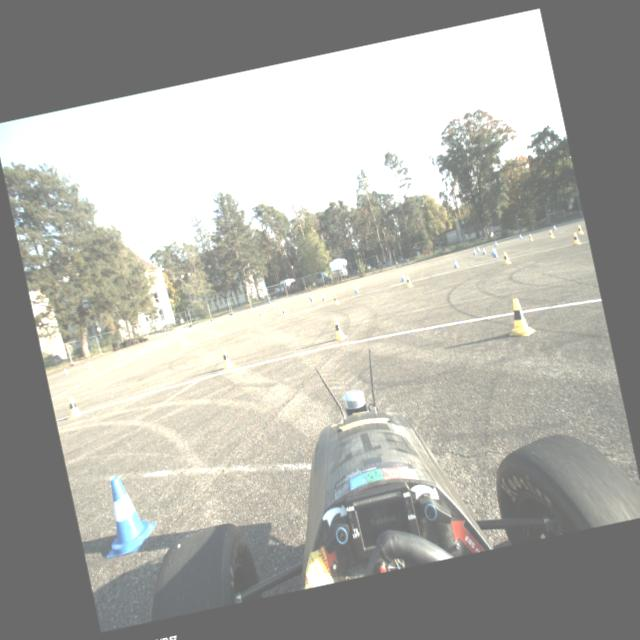blue_cone: (88, 468, 164, 560), (398, 272, 406, 281), (452, 258, 458, 268), (352, 284, 358, 293), (491, 248, 497, 257), (490, 246, 496, 255), (320, 292, 326, 300), (62, 368, 68, 374), (481, 247, 486, 254), (472, 248, 476, 254), (119, 349, 123, 355), (156, 337, 160, 343), (310, 296, 314, 302), (494, 240, 498, 246), (552, 224, 556, 230), (270, 301, 274, 306), (309, 294, 312, 300), (518, 234, 522, 238), (476, 246, 479, 251), (255, 306, 258, 310), (287, 296, 289, 302), (302, 294, 305, 298), (307, 292, 309, 298), (186, 328, 188, 332), (208, 321, 210, 325), (233, 313, 235, 317)
yellow_cone: (502, 296, 534, 338), (62, 393, 84, 420), (331, 316, 346, 341), (220, 346, 234, 368), (571, 232, 581, 244), (502, 251, 511, 264), (405, 274, 413, 286), (332, 294, 340, 304), (577, 224, 584, 234), (548, 229, 554, 238), (527, 233, 533, 241), (86, 361, 92, 368), (259, 310, 263, 318), (282, 308, 286, 316), (181, 330, 185, 336), (262, 309, 266, 315), (272, 304, 276, 310), (148, 341, 152, 346), (206, 322, 209, 327), (276, 302, 279, 307), (264, 304, 266, 310), (228, 315, 230, 320), (250, 308, 252, 312)
